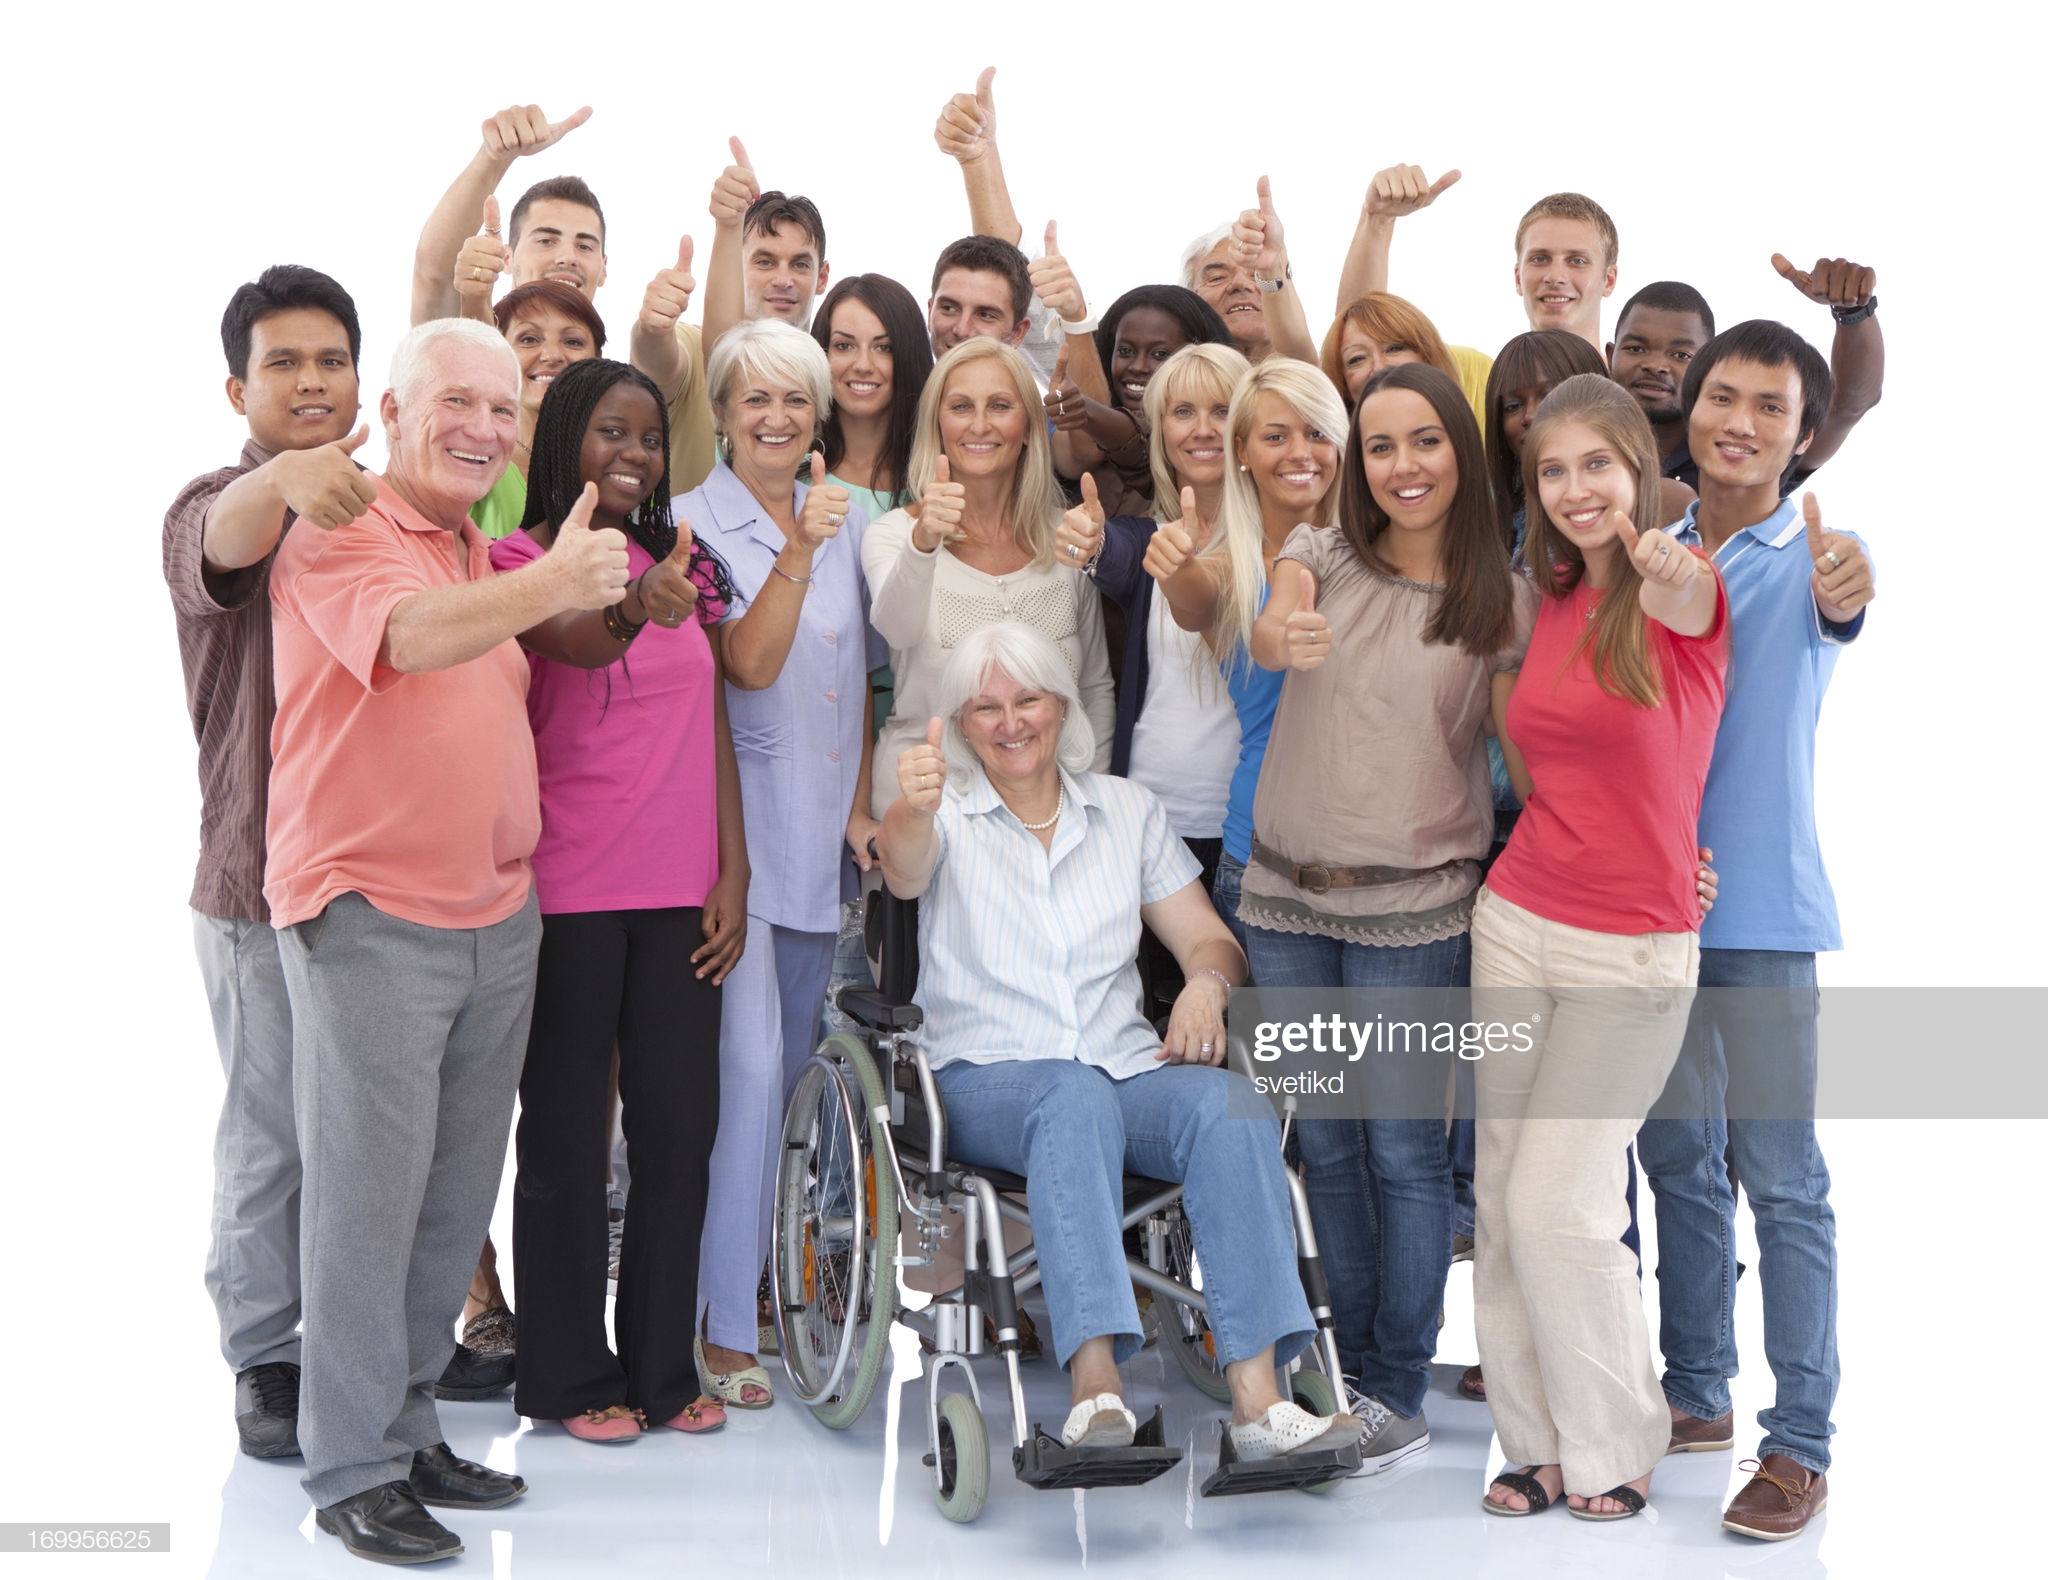thumbsup: (1802, 491, 1877, 612), (566, 480, 631, 609), (302, 423, 378, 533), (1612, 510, 1699, 589), (1768, 251, 1877, 309), (644, 519, 699, 631), (481, 103, 594, 154), (933, 66, 997, 154), (639, 234, 695, 330), (453, 194, 506, 295), (1142, 486, 1198, 579), (1052, 471, 1104, 569), (895, 715, 948, 810), (1285, 568, 1333, 671), (1026, 221, 1077, 310), (1369, 163, 1464, 211), (1226, 174, 1275, 267), (802, 450, 851, 539), (707, 136, 757, 221), (1042, 342, 1089, 432), (919, 455, 966, 536)
